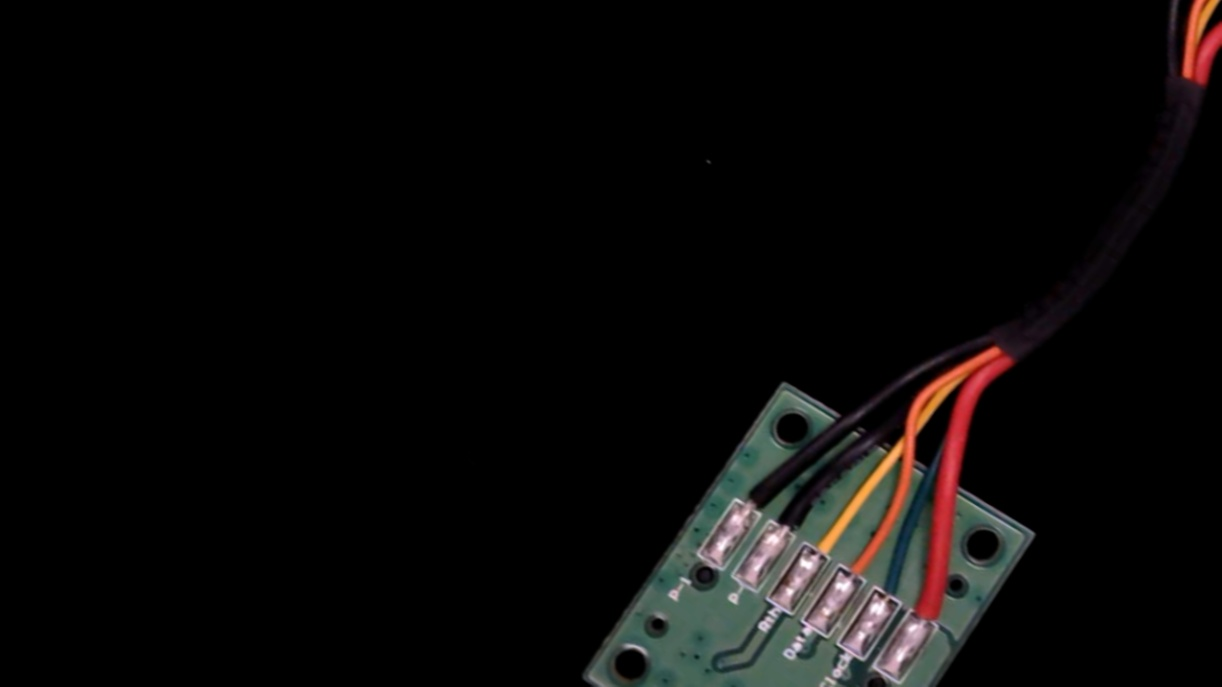Black: (758, 477, 830, 553)
Black1: (721, 453, 793, 531)
Green: (862, 547, 930, 620)
Orange: (827, 527, 895, 599)
Red: (898, 560, 973, 643)
Yellow: (793, 503, 861, 578)
